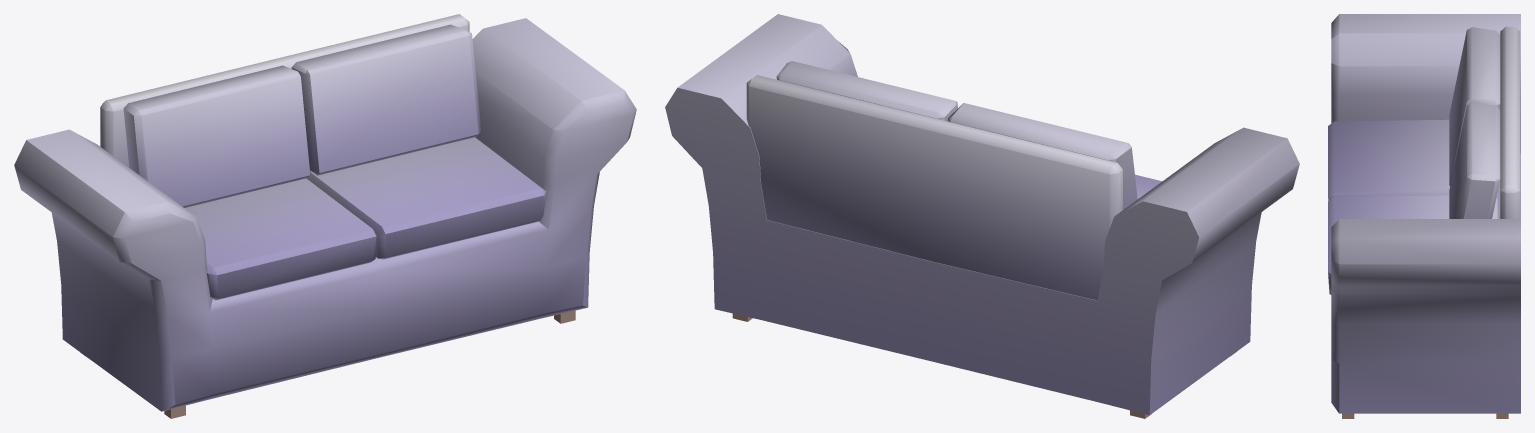
Rendered from Sillon.obj.
3 renders of one model, left to right at view 1: azimuth 30°, elevation 25°; view 2: azimuth 150°, elevation 25°; view 3: azimuth 270°, elevation 25°, orthographic. The views are drawn at different scales.
Visible parts, largest first — view 1: Sillon.obj; view 2: Sillon.obj; view 3: Sillon.obj.
Part boxes in pixels (x1,y1,x2,y2): Sillon.obj: (14,14,636,418); Sillon.obj: (665,14,1299,418); Sillon.obj: (1328,14,1520,418).
Bounding box in the file's own units: 2.33 × 1.05 × 0.8081.
